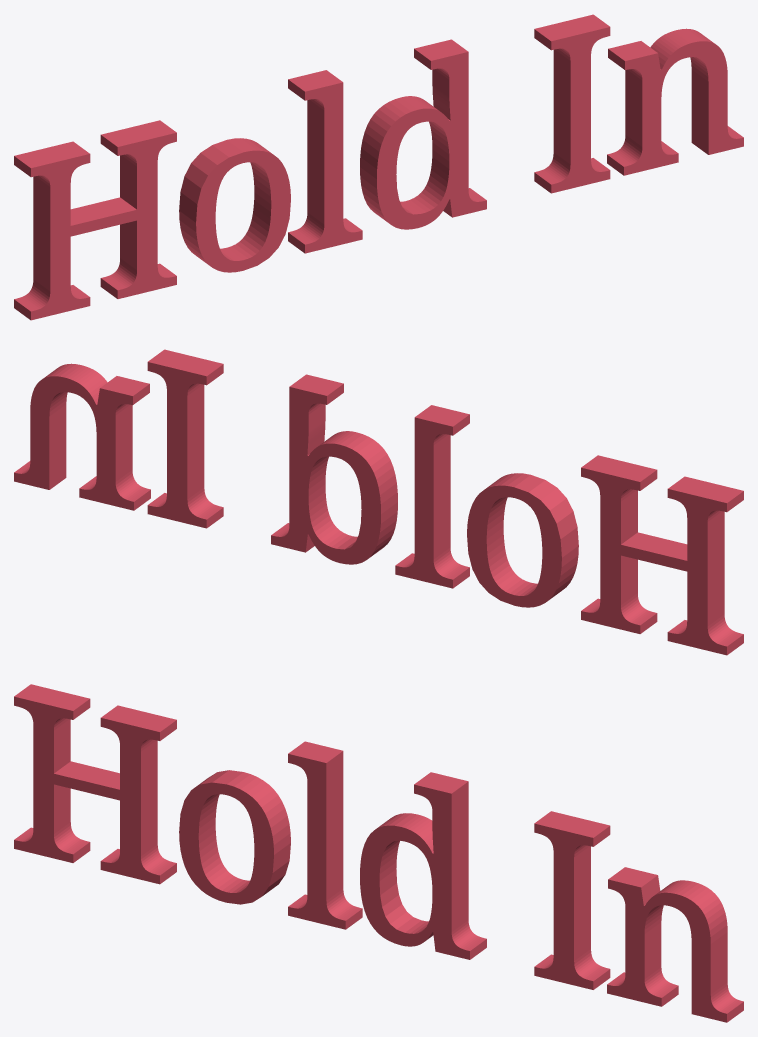
Rendered from HoldIn.fbx.
The picture shows the model from 3 angles, top to bottom: view 1: azimuth 30°, elevation 25°; view 2: azimuth 150°, elevation 25°; view 3: azimuth 330°, elevation 25°; orthographic projection.
Visible parts, largest first — view 1: tinker1:group_0_15277357; view 2: tinker1:group_0_15277357; view 3: tinker1:group_0_15277357.
Part boxes in pixels (x1=…): tinker1:group_0_15277357: x1=14, y1=14, x2=743, y2=320; tinker1:group_0_15277357: x1=14, y1=349, x2=743, y2=655; tinker1:group_0_15277357: x1=14, y1=684, x2=743, y2=1022.
Bounding box in the file's own units: 97.26 × 21.38 × 4.
